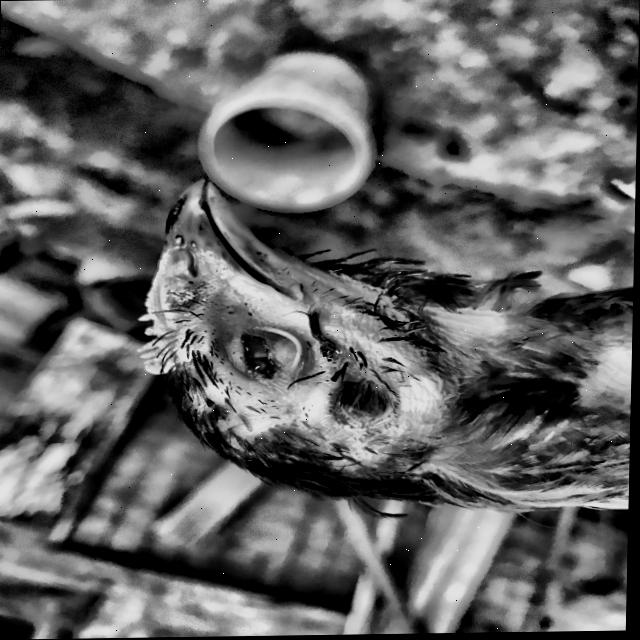Coryza: (96, 163, 564, 508)
